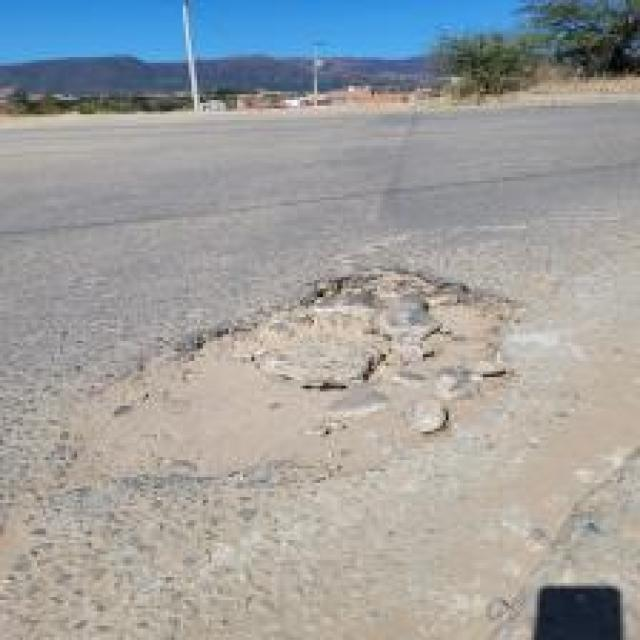BACHE: (64, 271, 517, 486)
